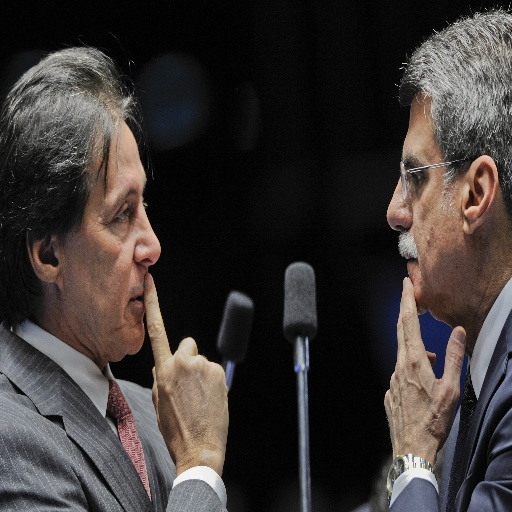hand: (128, 305, 239, 503), (382, 276, 466, 468)
